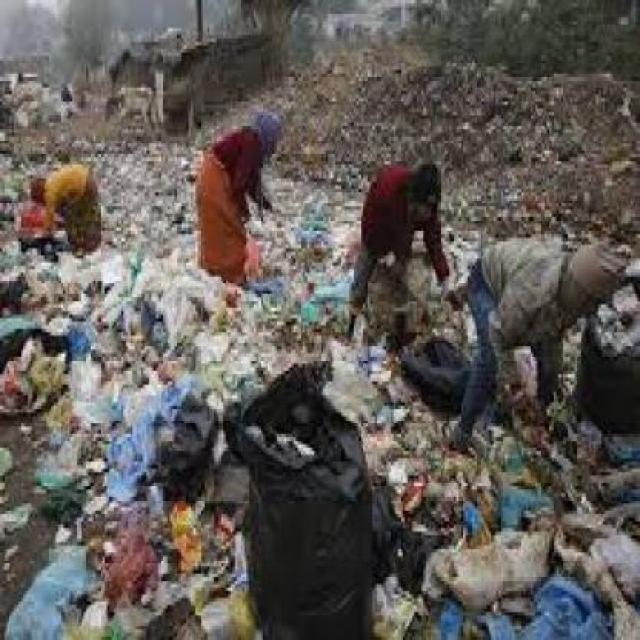garbage: (57, 322, 452, 636), (3, 261, 226, 524), (314, 39, 638, 214), (457, 426, 638, 636), (259, 176, 345, 372), (105, 132, 180, 356)
